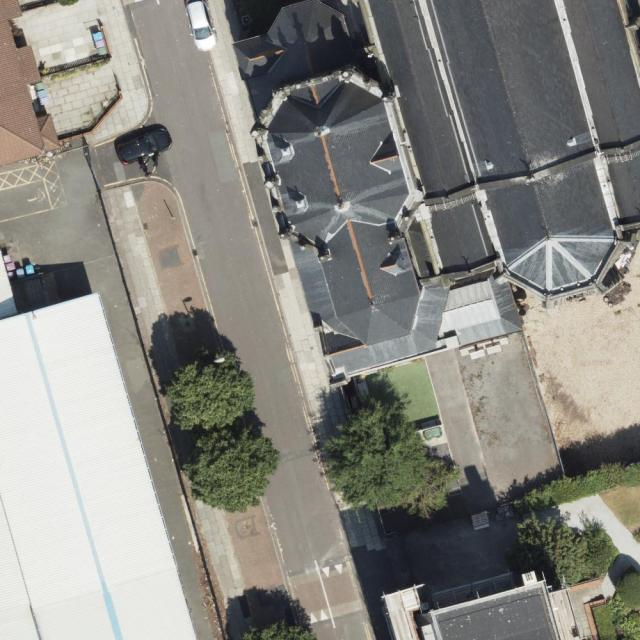roof: (232, 0, 640, 389), (0, 249, 199, 640), (0, 0, 60, 165), (427, 584, 562, 640)
